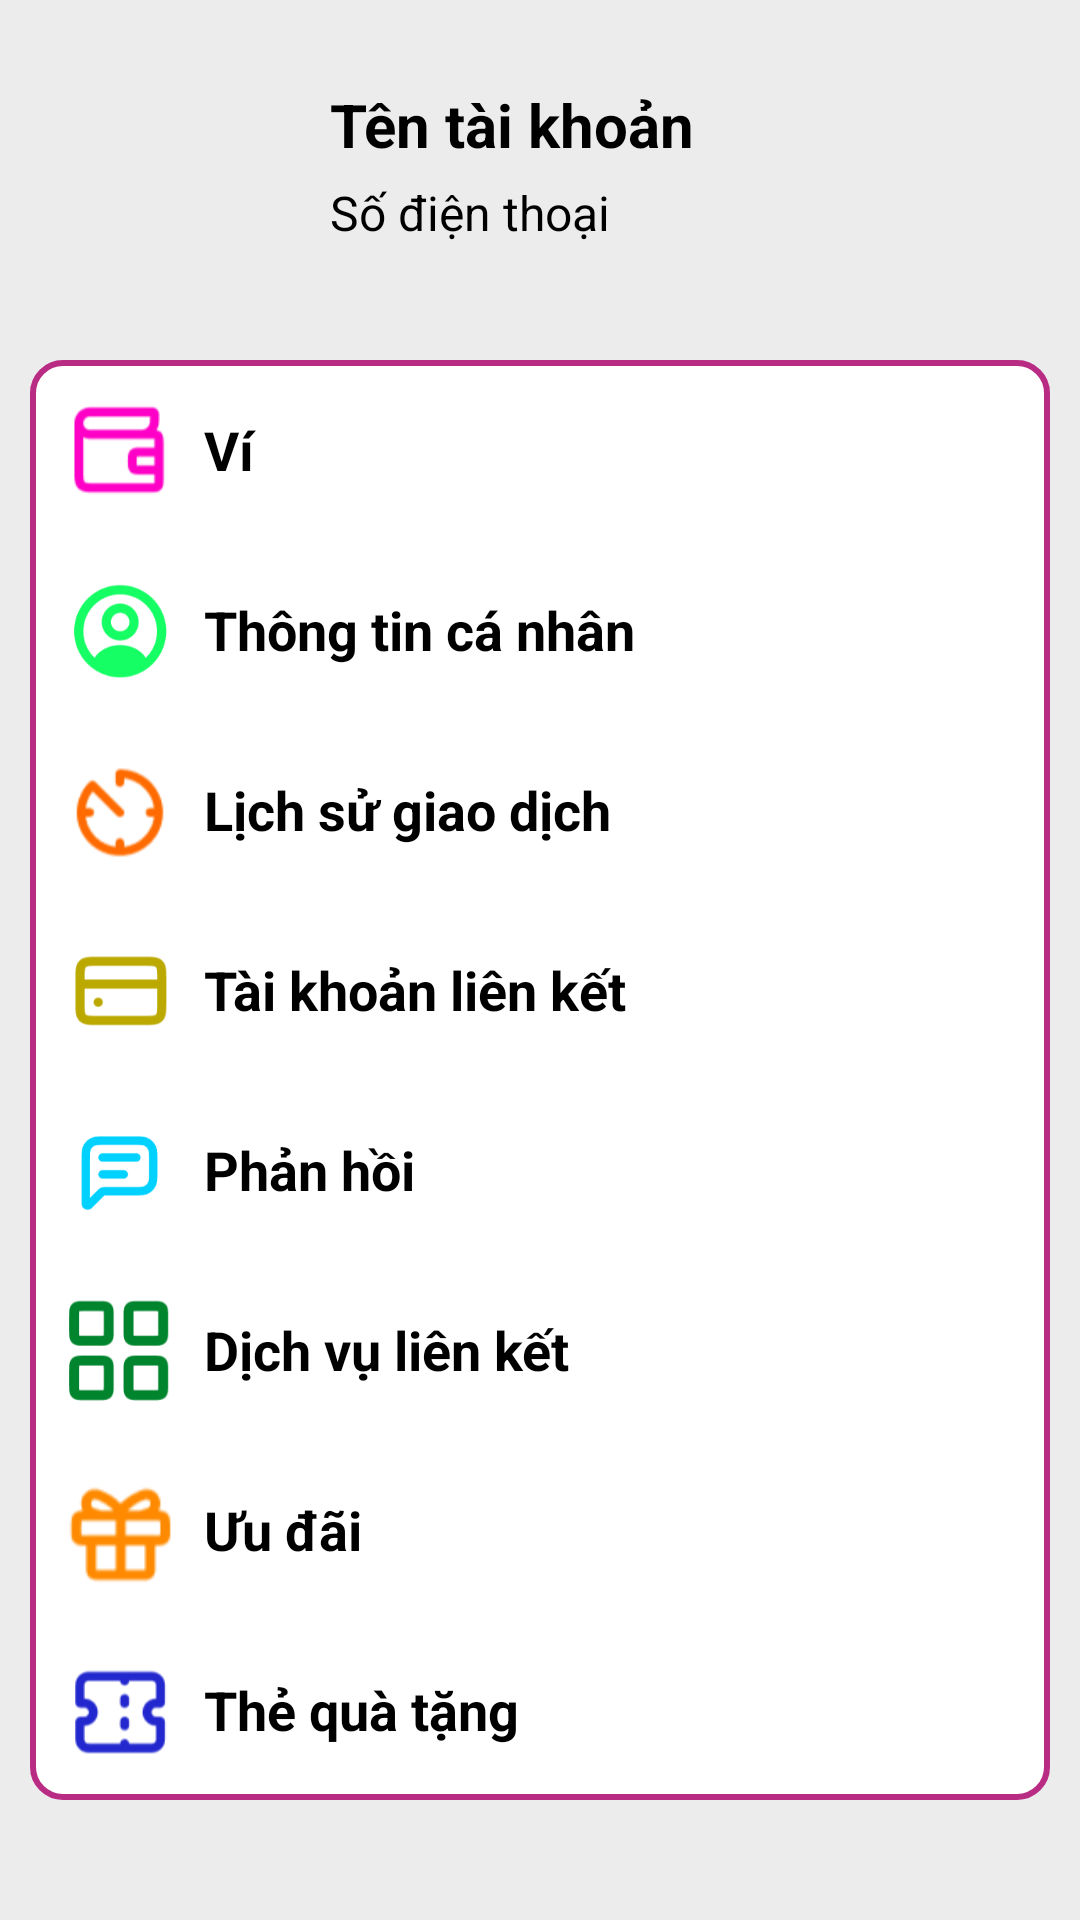

Locate icon controls on the screen. Image size 1080px x 1920px, boxes as (x1, y1, x2, y2).
phanhoi: (81, 1136, 158, 1210)
thequatang: (75, 1670, 166, 1754)
uudaiadmin: (70, 1487, 171, 1582)
